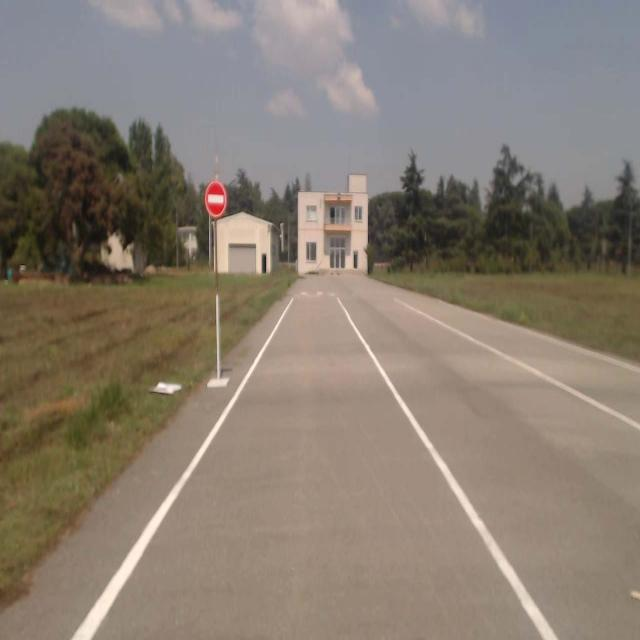girisyok: (204, 182, 226, 216)
